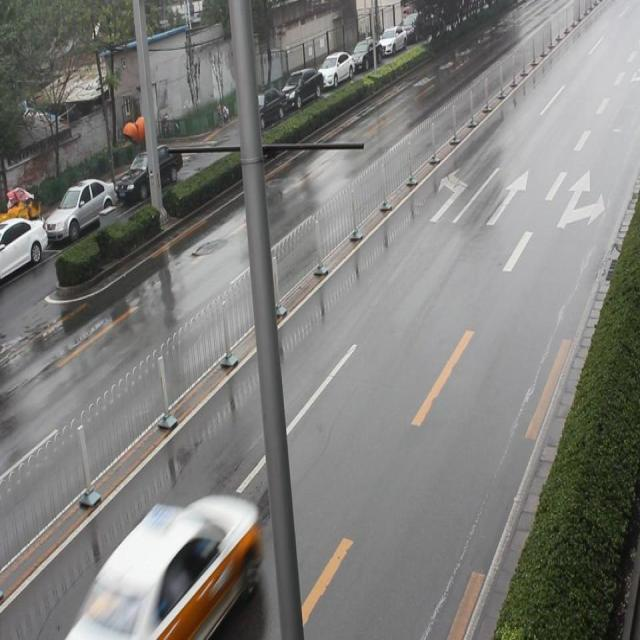car: (78, 481, 270, 640)
